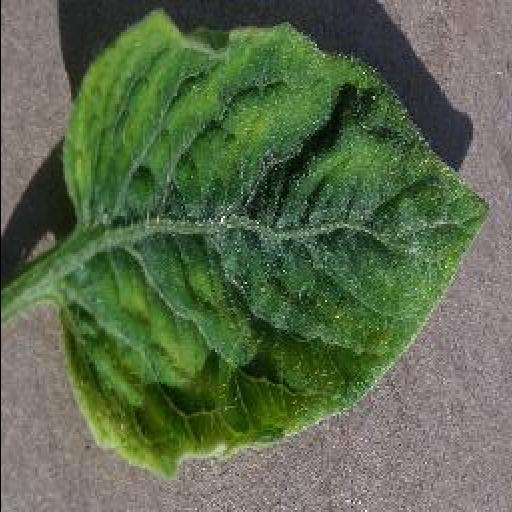disease_tomato: (54, 11, 494, 488)
